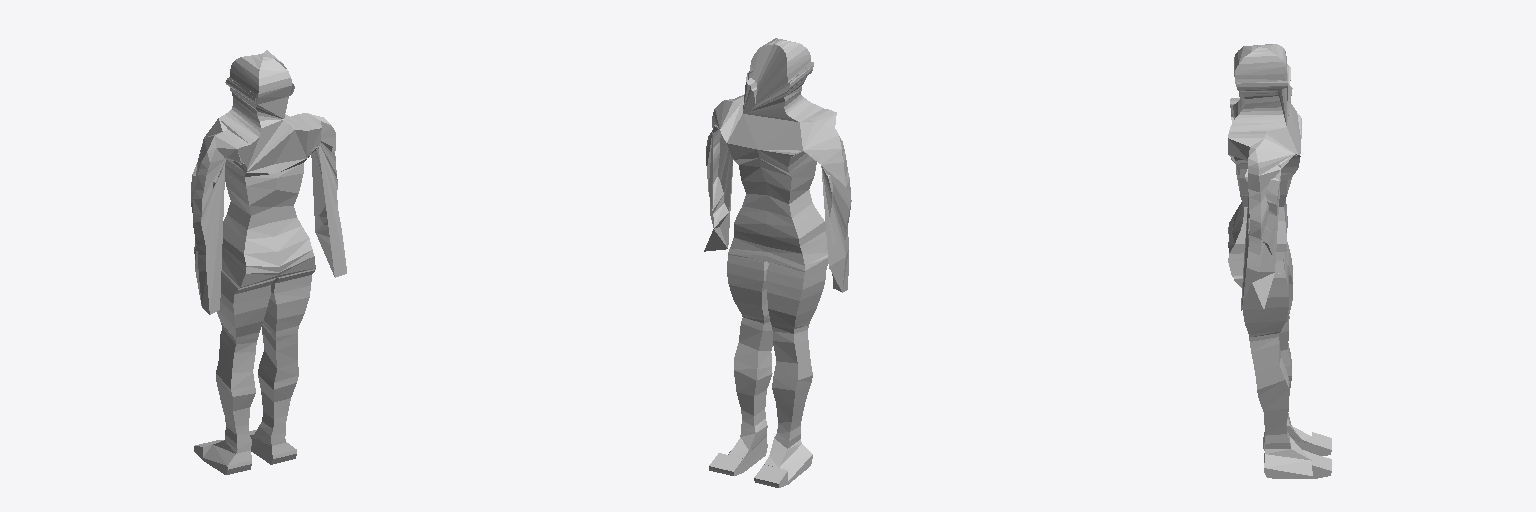
Rendered from woman_000042.obj.
3 renders of one model, left to right at view 1: azimuth 30°, elevation 25°; view 2: azimuth 150°, elevation 25°; view 3: azimuth 270°, elevation 25°, orthographic.
Visible parts, largest first — view 1: Cube_Cube.001; view 2: Cube_Cube.001; view 3: Cube_Cube.001.
Part boxes in pixels (x1,y1,x2,y2): Cube_Cube.001: (191,50,346,474); Cube_Cube.001: (704,38,851,487); Cube_Cube.001: (1228,44,1331,478).
Size of the model in its own units: 3.62 by 9.94 by 2.25.